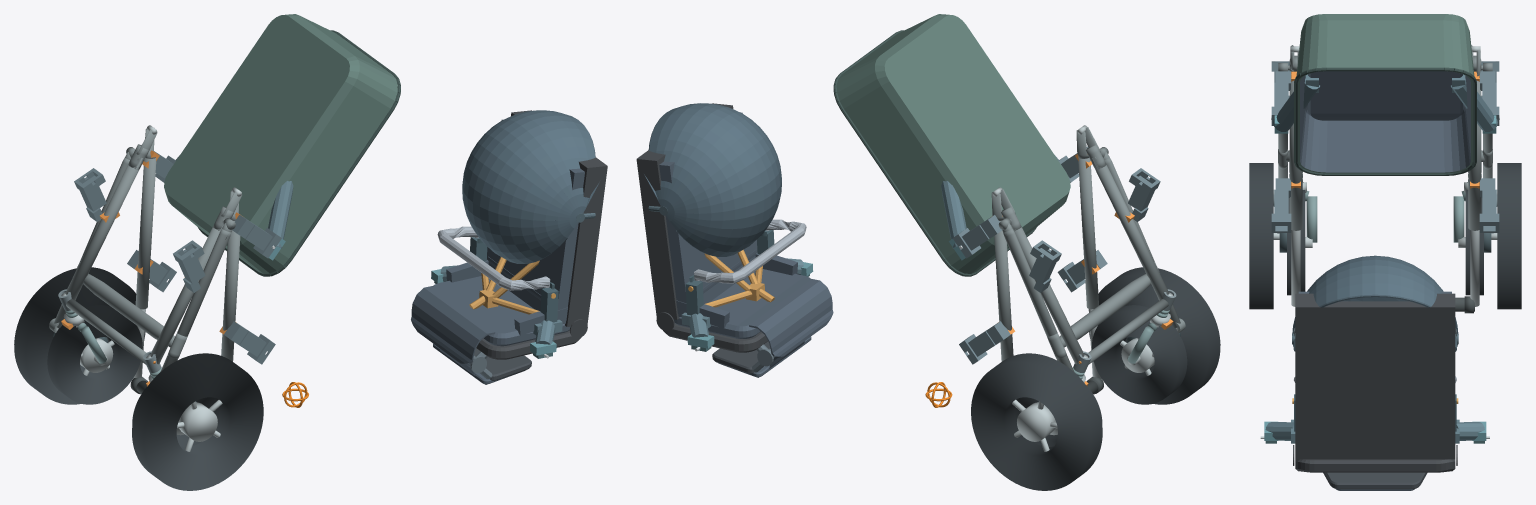
The model's file is D08_w550_state3_wheel_L.glb.
3 renders of one model, left to right at view 1: azimuth 30°, elevation 25°; view 2: azimuth 150°, elevation 25°; view 3: azimuth 270°, elevation 25°, orthographic. The views are drawn at different scales.
Parts seen in each view (by area): view 1: D08_Upper, D08_Lower, RL_tire.004, FR_tire.004, RR_tire.004, main_upper_1.005, main_lower_1.005, V46_rearbar.005, main_upper_-1.005, V46_rear_leg_-1.005, main_lower_-1.005, D08_Upper_Mount_H (+8 smaller); view 2: D08_Upper, D08_Lower, RR_tire.004, FL_tire.004, RL_tire.004, main_upper_-1.005, main_lower_-1.005, V46_rearbar.005, main_upper_1.005, V46_rear_leg_1.005, main_lower_1.005, D08_Upper_Mount_H (+9 smaller); view 3: D08_Upper, D08_Lower, RL_tire.004, RR_tire.004, D08_Lower_Mount_M, D08_Upper_Mount_H, main_upper_1.005, main_upper_-1.005, Universal_Cabin_Receiver_H_1, Universal_Cabin_Receiver_H_-1, FR_tire.004, FL_tire.004 (+8 smaller).
Part boxes in pixels (x1,y1,x2,y2): D08_Upper: [411, 110, 607, 384]; D08_Lower: [164, 14, 400, 276]; RL_tire.004: [132, 353, 263, 490]; FR_tire.004: [47, 305, 142, 404]; RR_tire.004: [14, 267, 145, 404]; main_upper_1.005: [135, 158, 156, 309]; main_lower_1.005: [65, 158, 142, 300]; V46_rearbar.005: [83, 273, 174, 347]; main_upper_-1.005: [221, 221, 240, 361]; V46_rear_leg_-1.005: [160, 229, 231, 371]; main_lower_-1.005: [150, 225, 223, 364]; D08_Upper_Mount_H: [431, 265, 562, 358]; D08_Upper: [636, 103, 833, 377]; D08_Lower: [833, 14, 1070, 276]; RR_tire.004: [971, 353, 1102, 490]; FL_tire.004: [1091, 305, 1187, 404]; RL_tire.004: [1089, 267, 1220, 404]; main_upper_-1.005: [1078, 158, 1098, 309]; main_lower_-1.005: [1091, 158, 1169, 300]; V46_rearbar.005: [1059, 274, 1150, 347]; main_upper_1.005: [994, 221, 1013, 361]; V46_rear_leg_1.005: [1003, 229, 1073, 371]; main_lower_1.005: [1011, 225, 1084, 364]; D08_Upper_Mount_H: [681, 258, 813, 351]; D08_Upper: [1292, 255, 1458, 490]; D08_Lower: [1294, 14, 1476, 175]; RL_tire.004: [1249, 163, 1273, 309]; RR_tire.004: [1497, 163, 1521, 309]; D08_Lower_Mount_M: [1271, 74, 1499, 133]; D08_Upper_Mount_H: [1260, 419, 1489, 443]; main_upper_1.005: [1468, 78, 1481, 230]; main_upper_-1.005: [1289, 78, 1302, 230]; Universal_Cabin_Receiver_H_1: [1479, 178, 1499, 232]; Universal_Cabin_Receiver_H_-1: [1271, 178, 1291, 232]; FR_tire.004: [1465, 190, 1483, 295]; FL_tire.004: [1287, 190, 1305, 295].
Size of the model in its own units: 1.48 by 1.04 by 0.671.
